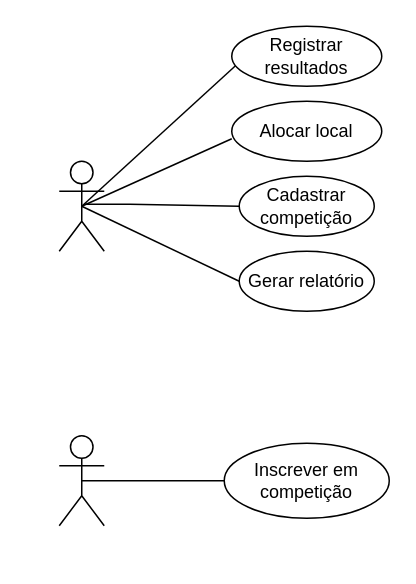
The diagram is 416 pixels wide and 584 high, and some of its shapes have lost their labels. Each missing label, with the centre of its shape:
Administrador: the point at 81,205
Atleta: the point at 81,480
